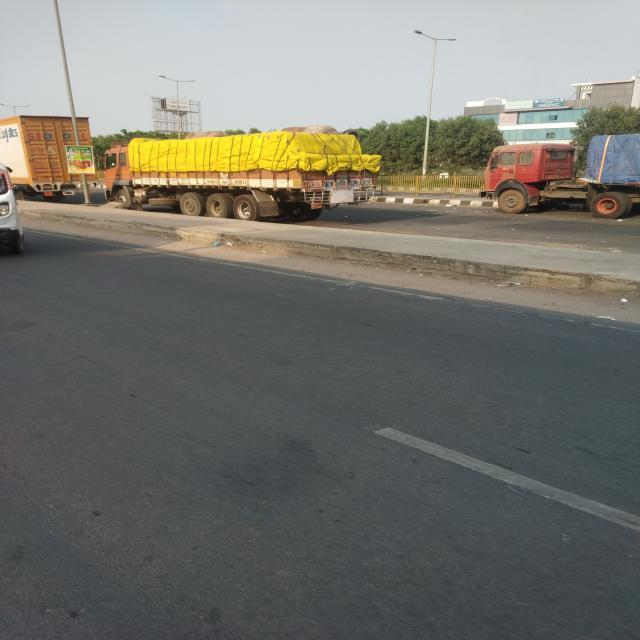truck_back: (100, 129, 380, 228), (481, 129, 640, 227), (0, 108, 100, 200)
